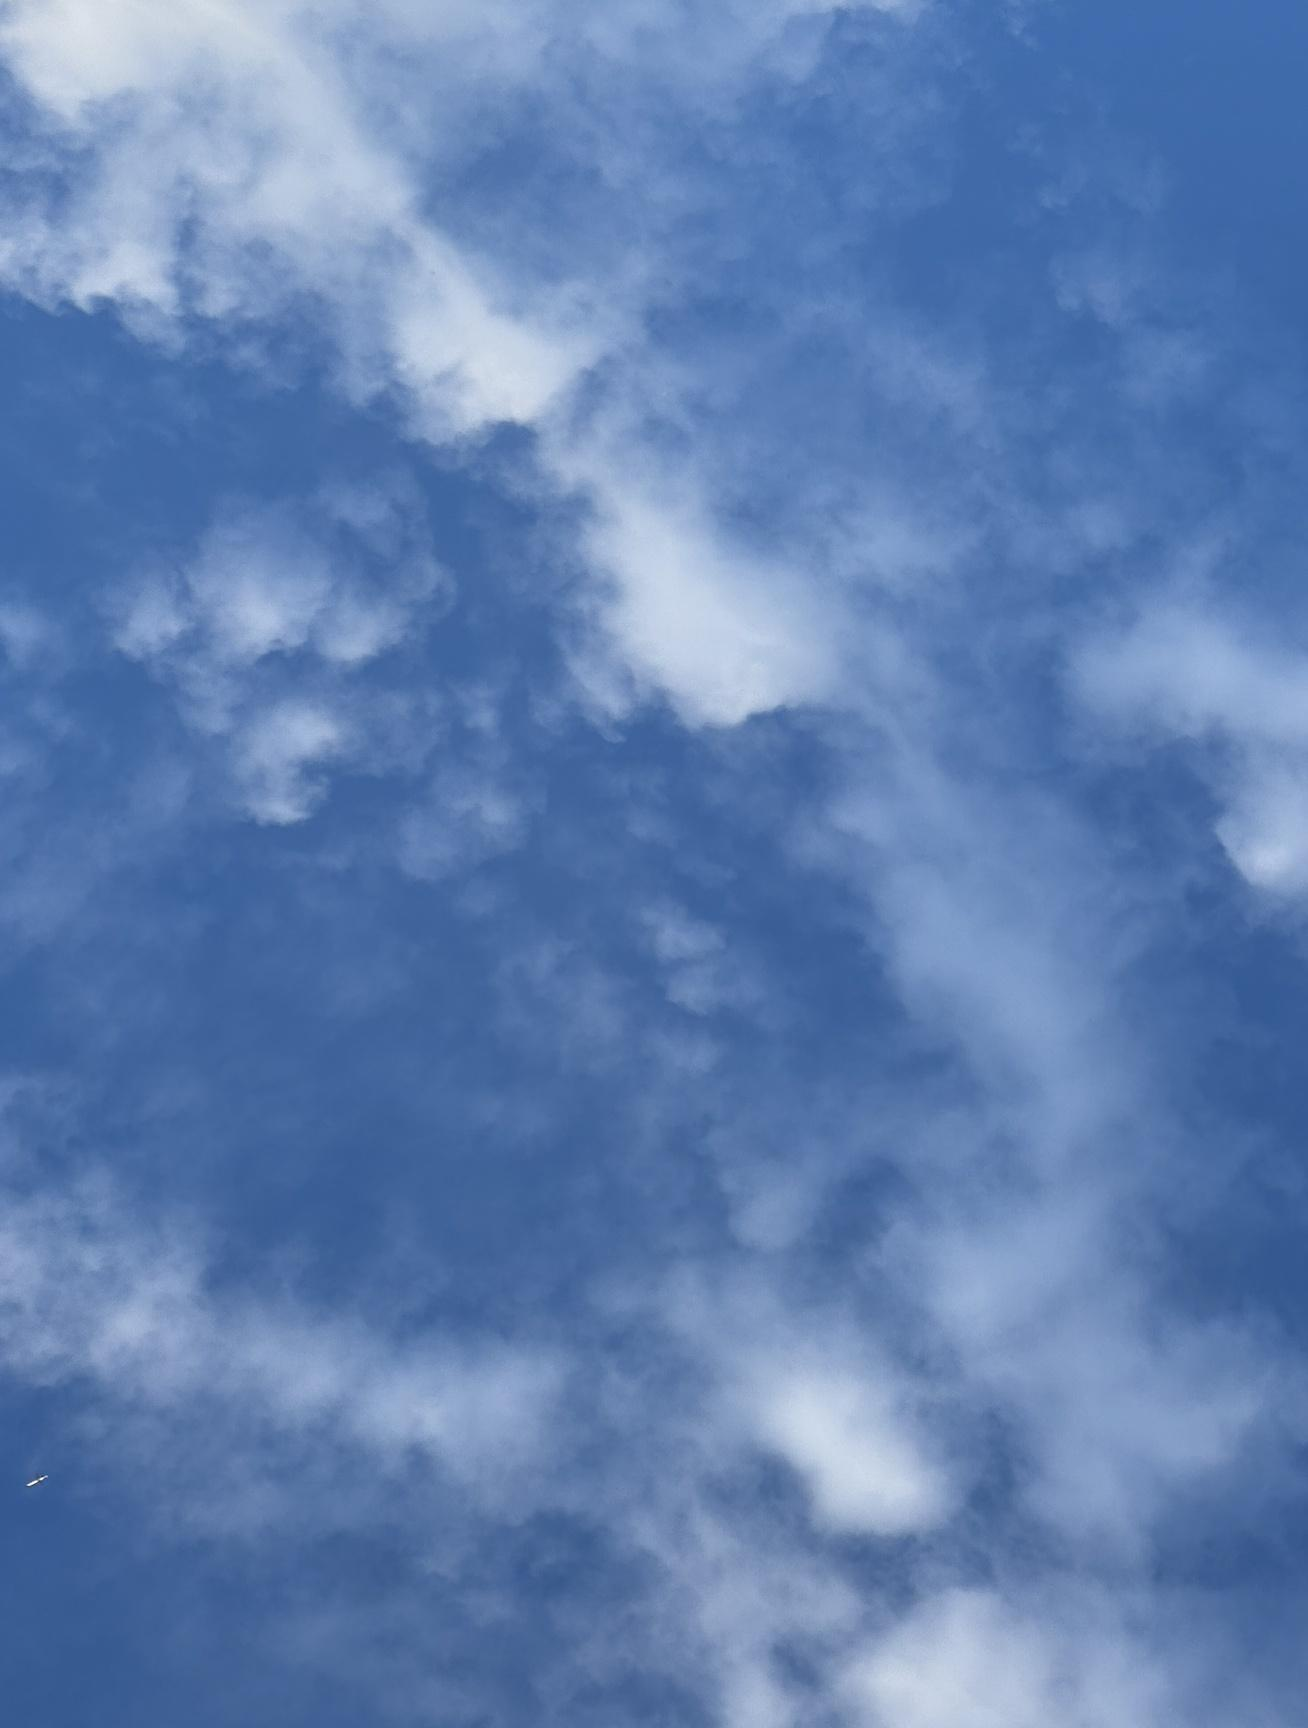Plane: (0, 1455, 99, 1523)
